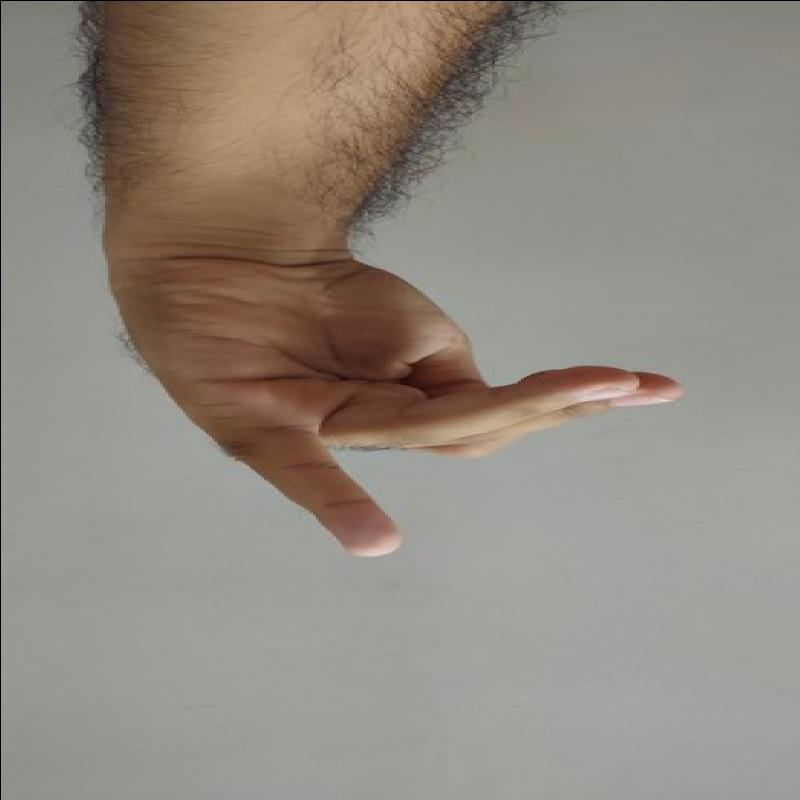Kartharee Mukham: (102, 254, 699, 570)
